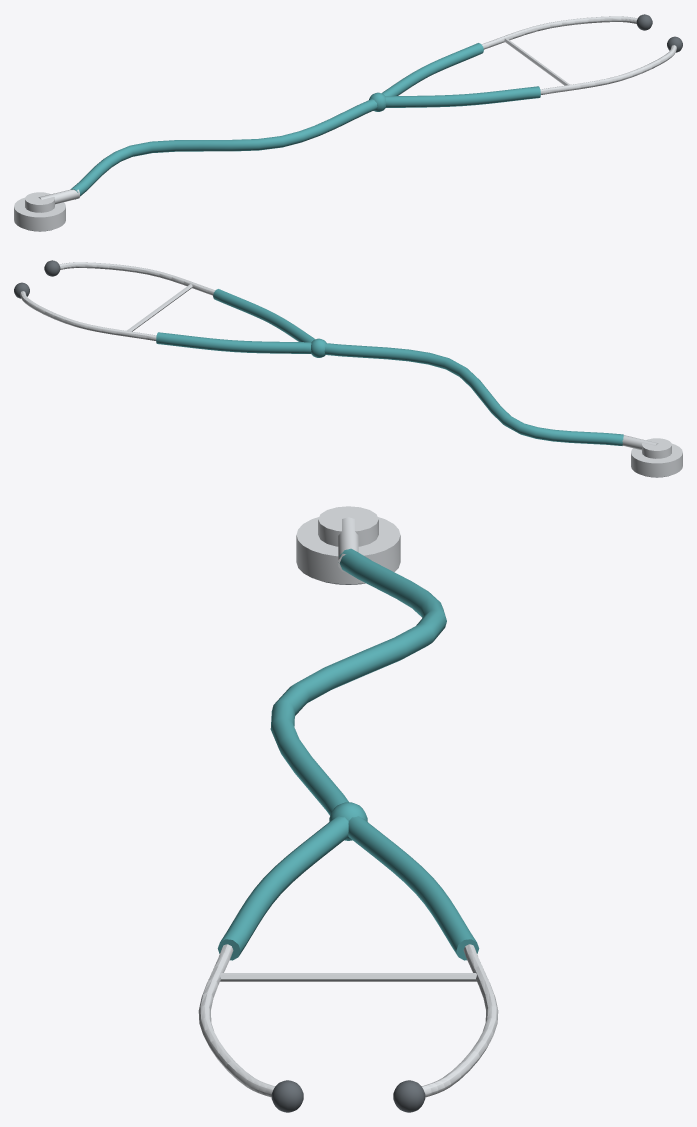
File: stethoscope.glb
The picture shows the model from 3 angles, top to bottom: view 1: azimuth 30°, elevation 25°; view 2: azimuth 150°, elevation 25°; view 3: azimuth 270°, elevation 25°; orthographic projection. The views are drawn at different scales.
Visible parts, largest first — view 1: stethoscope; view 2: stethoscope; view 3: stethoscope.
Part boxes in pixels (x1,y1,x2,y2): stethoscope: (14, 14, 682, 231); stethoscope: (14, 260, 682, 477); stethoscope: (198, 506, 498, 1112).
Size of the model in its own units: 0.6914 by 0.0465 by 0.1382.
